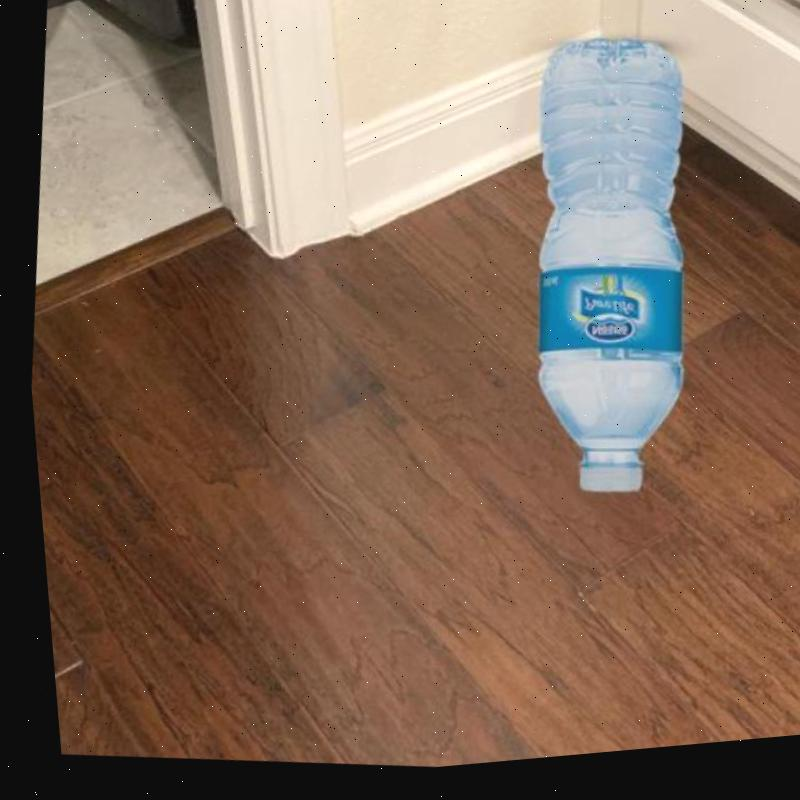botella: (484, 31, 720, 521)
